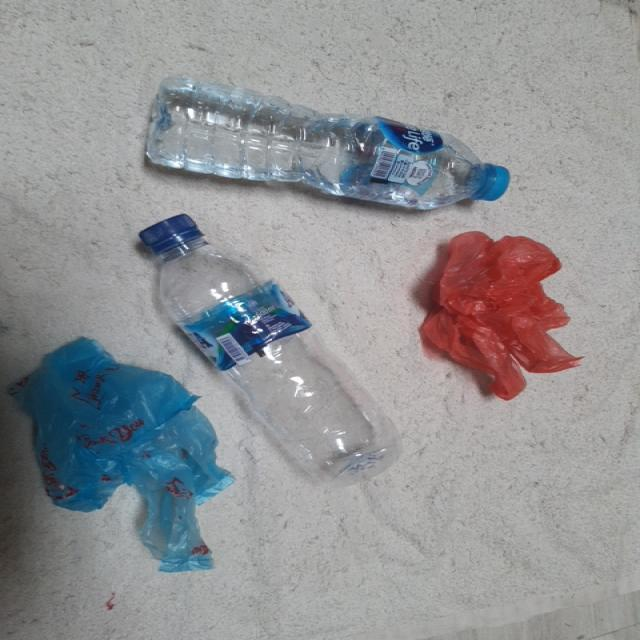Single-layer Plastic: (9, 338, 232, 572), (421, 231, 580, 399)
